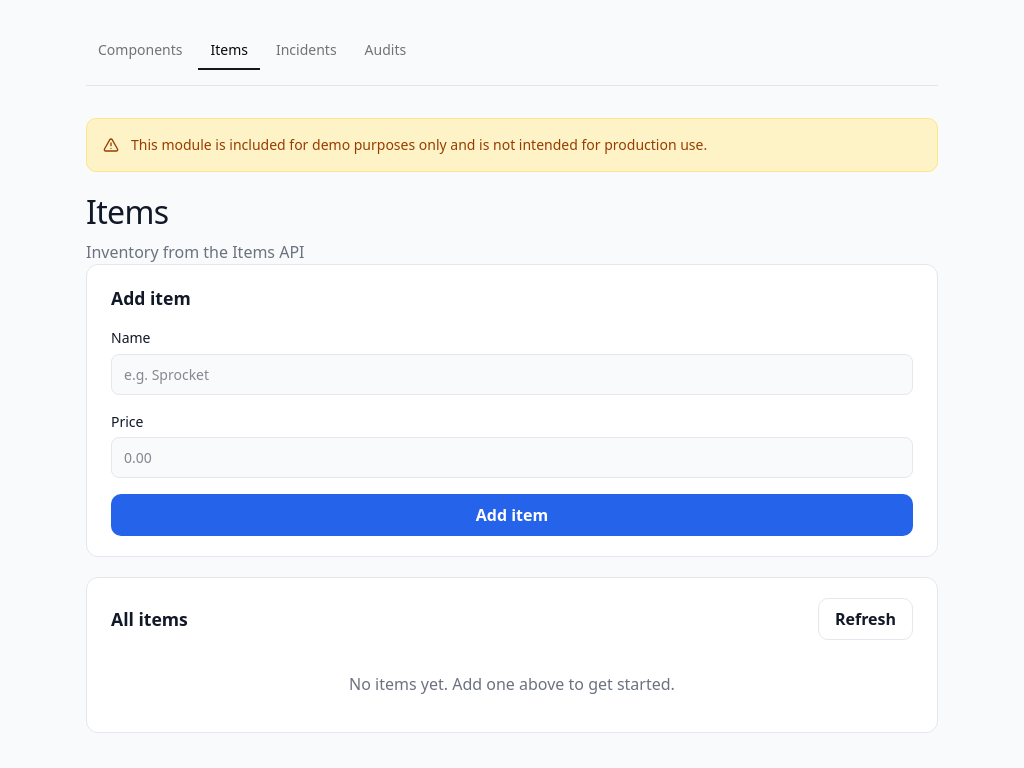
Scenario: App › adds item and refreshes list after successful submit
This screenshot has width=1024, height=768.
Expected: the text "No items yet. Add one above to get started." is shown, 349,673 -> 675,695
Type "Widget" into the field labelled "Name" at x=512, y=374, box 111,354 -> 913,395
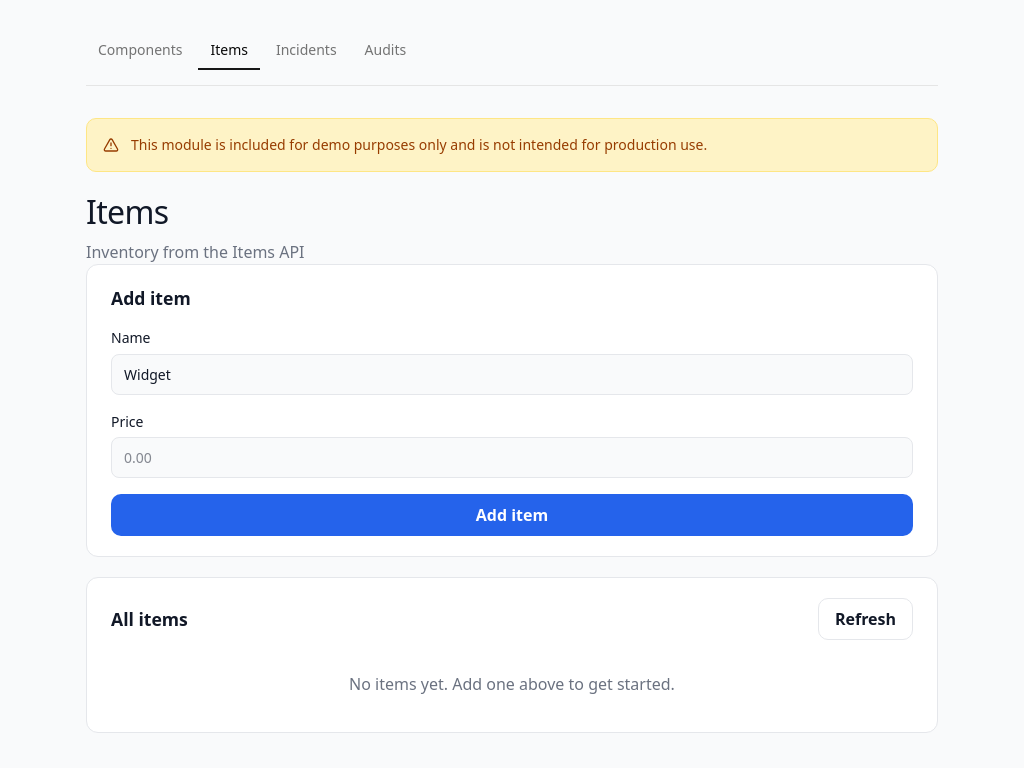
Type "9.99" into the number field labelled "Price" at x=512, y=458, box 111,437 -> 913,478
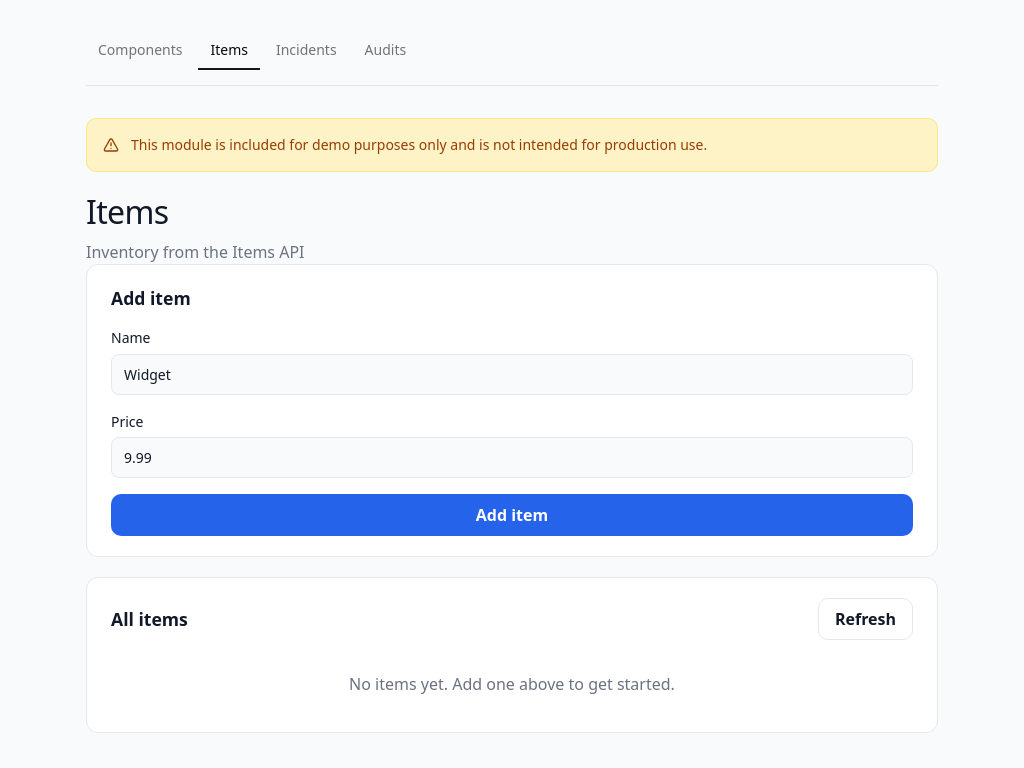
Click the button "Add item" at x=512, y=515, box 111,494 -> 913,536
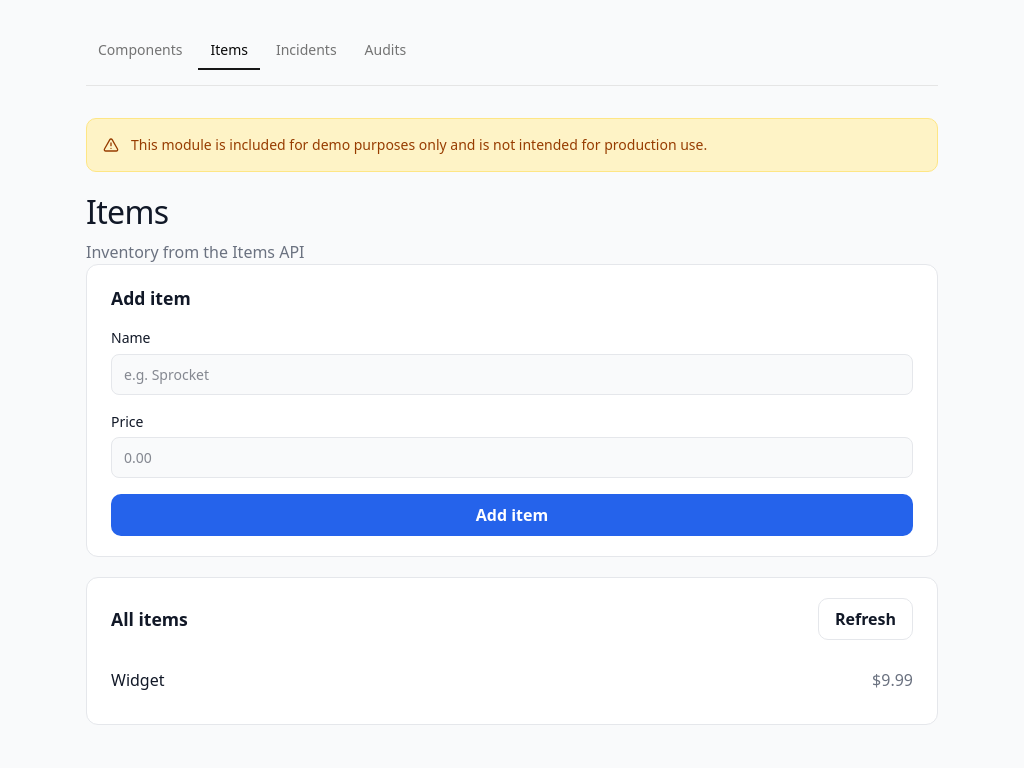
Result: the field labelled "Name" is empty at 111,354 -> 913,395
Result: the number field labelled "Price" is not empty at 111,437 -> 913,478
Result: the text "Widget" is shown at 111,668 -> 164,692
